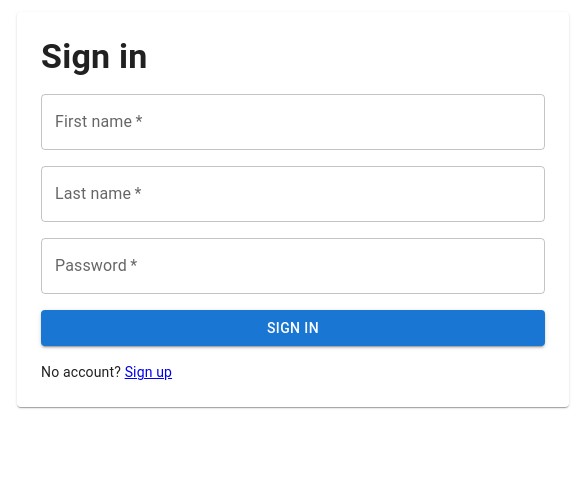
Scenario: SignInPage › shows error message from api (Error)
The image size is (587, 490).
Type "John" into the field labelled "First name *" at (293, 122), box left=41, top=94, right=545, bottom=150
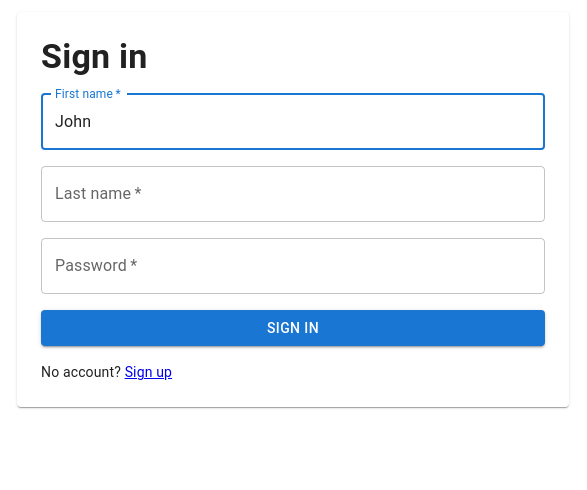
Type "Doe" into the field labelled "Last name *" at (293, 194), box left=41, top=166, right=545, bottom=222
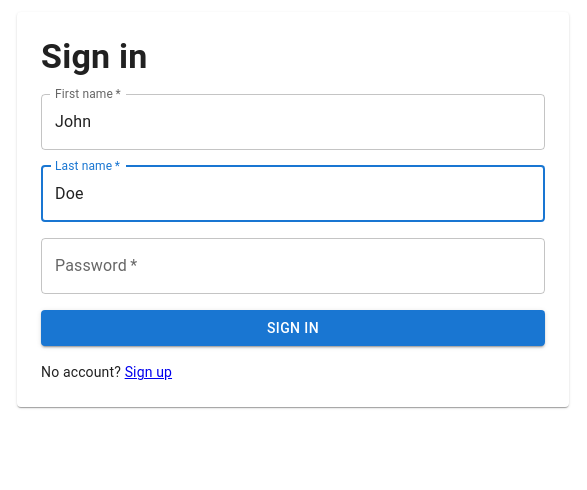
Type "bad" into the password field labelled "Password *" at (293, 266), box left=41, top=238, right=545, bottom=294
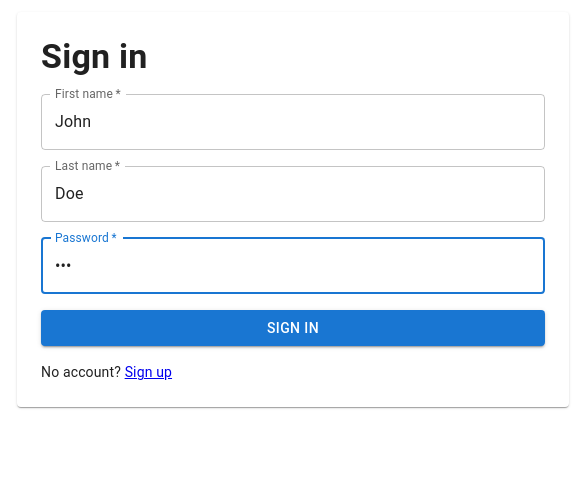
Click the button "Sign in" at (293, 328), box left=41, top=310, right=545, bottom=346
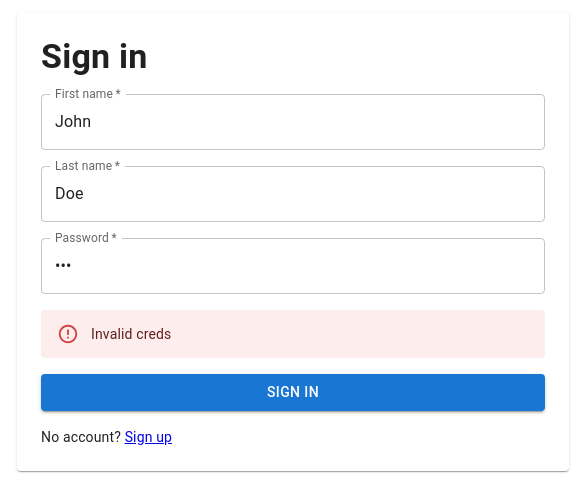
Expected: the text "Invalid creds" is shown, left=91, top=326, right=172, bottom=342
